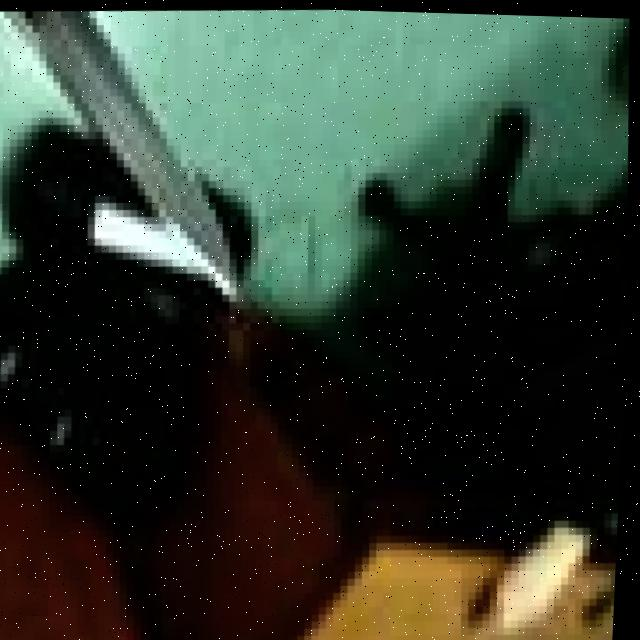knife: (0, 2, 270, 323)
